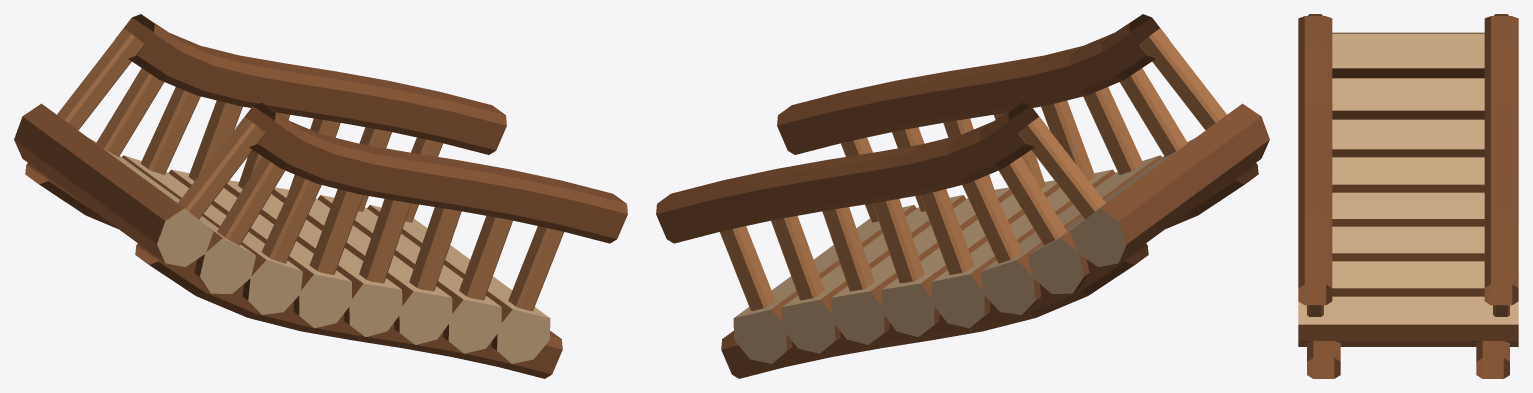
The model's file is Track_Bridge_Incline_Gentle_Sharp_Floating.obj.
The picture shows the model from 3 angles, left to right: view 1: azimuth 30°, elevation 25°; view 2: azimuth 150°, elevation 25°; view 3: azimuth 270°, elevation 25°; orthographic projection. The views are drawn at different scales.
Parts seen in each view (by area): view 1: Bridge_Rail, Bridge_Rail_Support, Log_Plank_End, Log_Plank_Bark, Log_Plank_Top, Bridge_Support_Beam; view 2: Bridge_Rail, Bridge_Rail_Support, Log_Plank_End, Log_Plank_Bark, Log_Plank_Top, Bridge_Support_Beam; view 3: Log_Plank_Top, Bridge_Rail, Log_Plank_Bark, Bridge_Support_Beam, Bridge_Rail_Support.
Part boxes in pixels (x1,y1,x2,y2): Bridge_Rail: (115, 14, 627, 243); Bridge_Rail_Support: (57, 28, 563, 310); Log_Plank_End: (157, 208, 550, 363); Log_Plank_Bark: (14, 103, 512, 362); Log_Plank_Top: (89, 138, 549, 317); Bridge_Support_Beam: (25, 163, 562, 378); Bridge_Rail: (656, 14, 1168, 243); Bridge_Rail_Support: (720, 28, 1226, 310); Log_Plank_End: (733, 208, 1126, 363); Log_Plank_Bark: (771, 103, 1269, 362); Log_Plank_Top: (734, 138, 1194, 317); Bridge_Support_Beam: (721, 163, 1258, 378); Log_Plank_Top: (1298, 33, 1518, 324); Bridge_Rail: (1298, 16, 1518, 305); Log_Plank_Bark: (1298, 32, 1518, 346); Bridge_Support_Beam: (1307, 341, 1509, 378); Bridge_Rail_Support: (1307, 14, 1509, 316).
Bounding box in the file's own units: 2.49 × 1.69 × 1.3.
